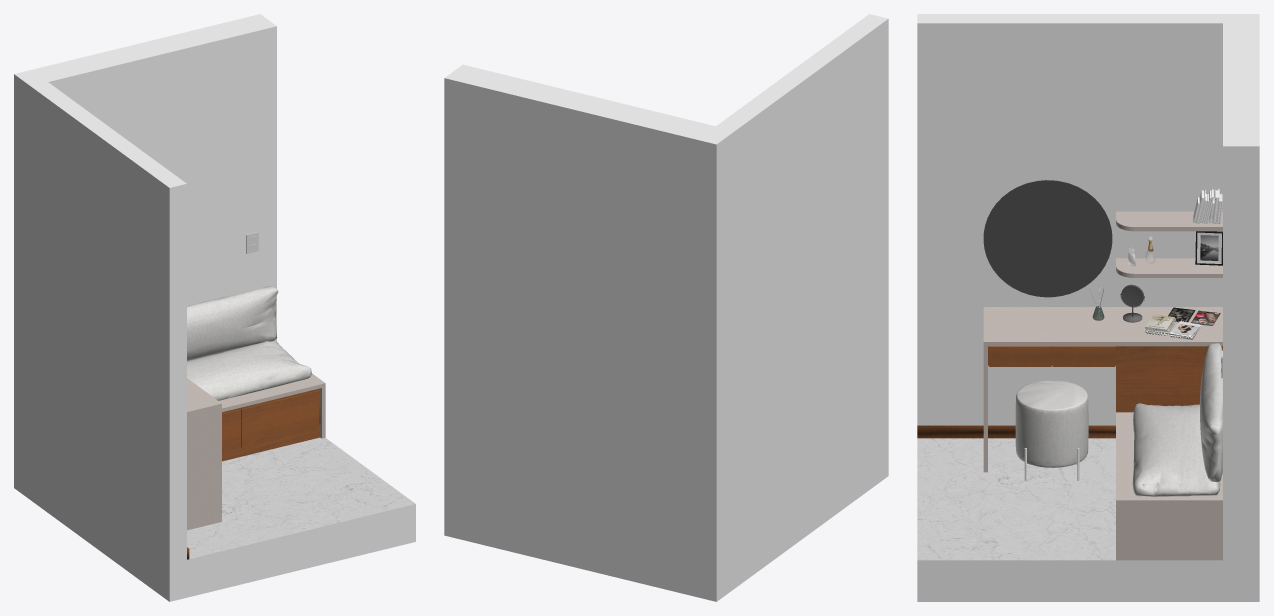
File: PV_Tocador.glb
3 renders of one model, left to right at view 1: azimuth 30°, elevation 25°; view 2: azimuth 150°, elevation 25°; view 3: azimuth 270°, elevation 25°, orthographic. The views are drawn at different scales.
Parts seen in each view (by area): view 1: G-Object.048, G-Object.219, Seat_1.007, Plane, Cube.003, Plane.002, G-Object.658, Cube.001; view 2: G-Object.048, G-Object.219; view 3: G-Object.048, G-Object.219, G-Object.652, Seat_1.007, Plane, Plane.002, G-Object.027, G-Object.658, G-Object.647, G-Object.645, G-Object.230, G-Object.046 (+4 smaller).
Part boxes in pixels (x1,y1,x2,y2): G-Object.048: (14, 14, 276, 563); G-Object.219: (14, 437, 415, 601); Seat_1.007: (187, 286, 312, 400); Plane: (187, 378, 221, 530); Cube.003: (241, 390, 319, 447); Plane.002: (219, 373, 325, 438); G-Object.658: (222, 424, 320, 461); Cube.001: (222, 409, 240, 452); G-Object.048: (444, 14, 888, 559); G-Object.219: (444, 434, 888, 601); G-Object.048: (917, 14, 1259, 560); G-Object.219: (917, 438, 1259, 601); G-Object.652: (983, 180, 1112, 297); Seat_1.007: (1132, 343, 1222, 496); Plane: (983, 307, 1222, 472); Plane.002: (1116, 412, 1222, 560); G-Object.027: (1015, 380, 1088, 467); G-Object.658: (1116, 346, 1222, 412); G-Object.647: (1116, 258, 1222, 277); G-Object.645: (1116, 211, 1222, 231); G-Object.230: (917, 425, 1115, 438); G-Object.046: (1052, 346, 1115, 366).
Size of the model in its own units: 1.7 by 2.73 by 1.86.
34 materials, 15 textured.
